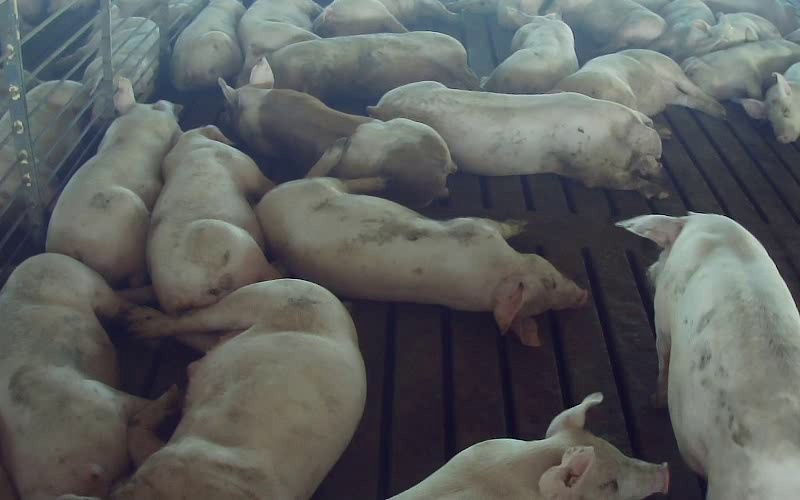pig: (256, 139, 587, 345), (116, 279, 364, 499), (618, 214, 799, 499), (0, 253, 149, 499), (220, 58, 455, 206), (369, 81, 662, 195), (391, 393, 668, 499), (46, 78, 181, 286), (147, 126, 278, 314), (268, 31, 478, 104), (553, 49, 725, 117), (483, 8, 578, 93), (681, 39, 799, 99), (170, 0, 245, 91)
